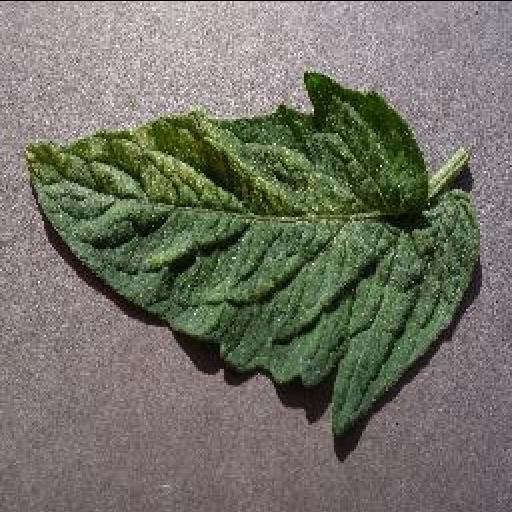disease_tomato: (23, 74, 477, 436)
